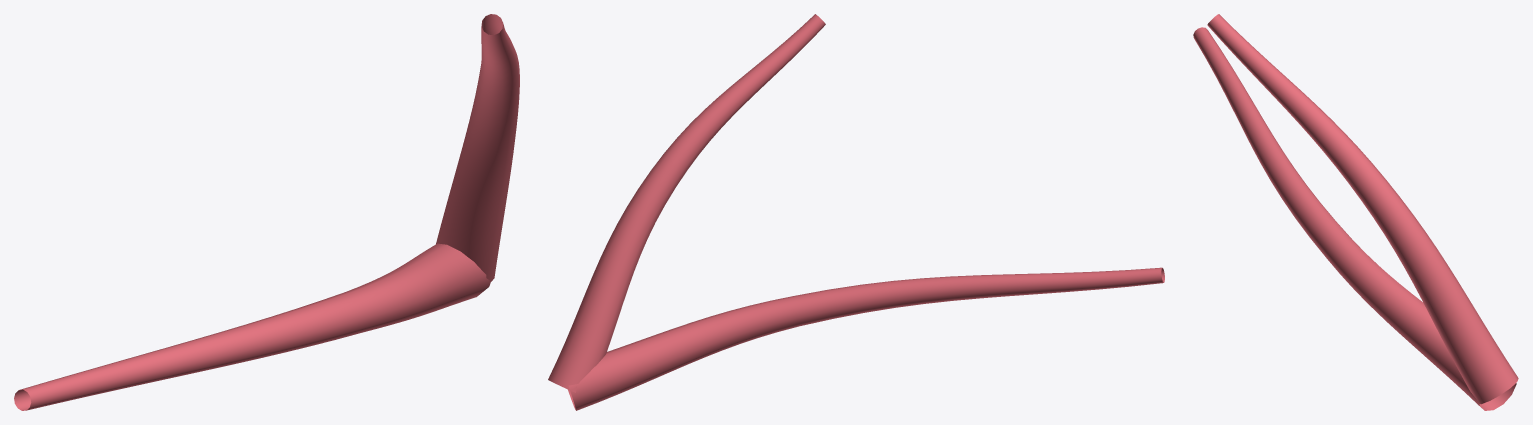
The picture shows the model from 3 angles, left to right: view 1: azimuth 30°, elevation 25°; view 2: azimuth 150°, elevation 25°; view 3: azimuth 270°, elevation 25°; orthographic projection. The views are drawn at different scales.
Parts seen in each view (by area): view 1: ZA_91a5a55a4ca9f33f; view 2: ZA_91a5a55a4ca9f33f; view 3: ZA_91a5a55a4ca9f33f.
Boxes of the visible parts, bbox=[...] form: ZA_91a5a55a4ca9f33f: bbox=[14, 14, 519, 410]; ZA_91a5a55a4ca9f33f: bbox=[548, 14, 1164, 410]; ZA_91a5a55a4ca9f33f: bbox=[1193, 14, 1518, 410].
Size of the model in its own units: 0.00707 by 0.00462 by 0.00401.
